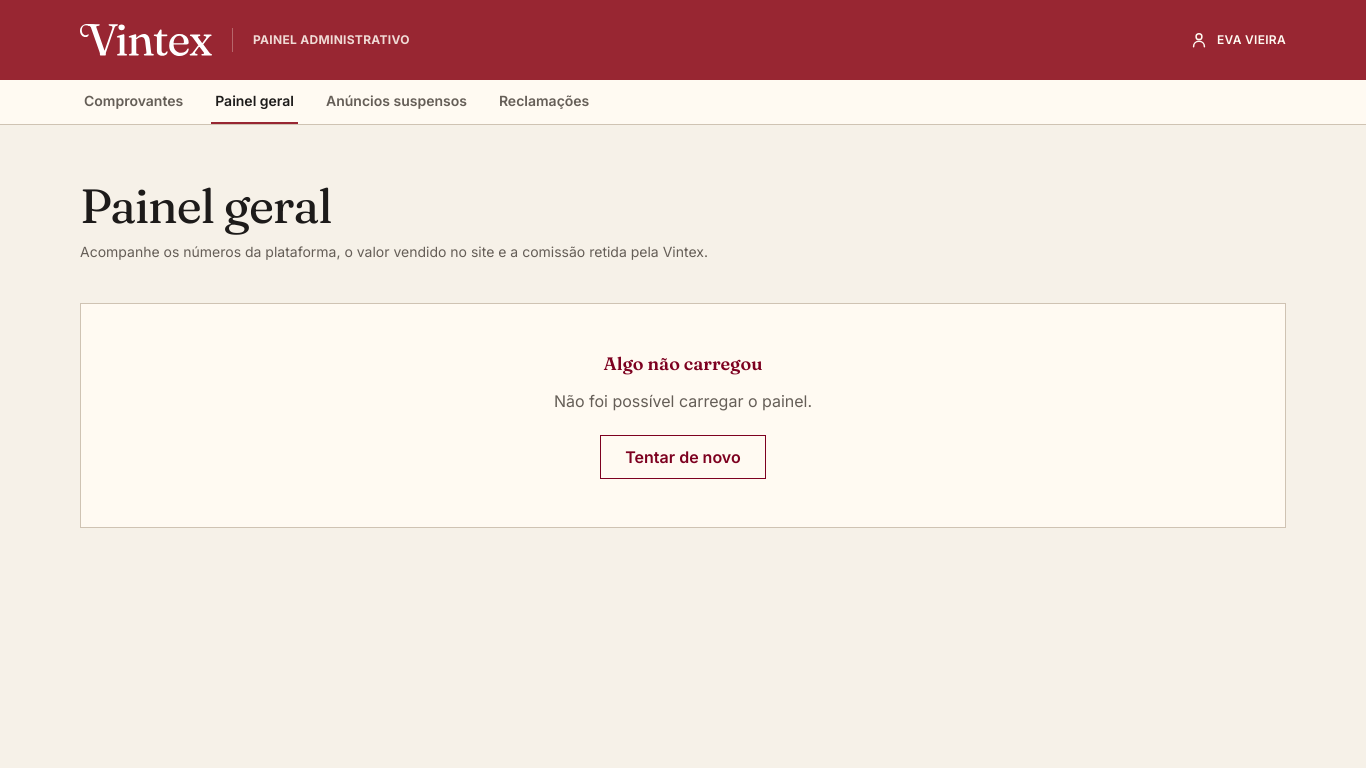
Test: <AdminDashboard /> › falha: erro com "Tentar de novo", que refaz a chamada; a navegação continua
The width and height of the screenshot is (1366, 768).
Later steps or results of the test are not shown.
Expected: the message shows "Não foi possível carregar o painel.", [554,391,812,411]
Expected: the navigation bar named "Área administrativa" is shown, [0,80,1365,125]
What coordinates should you click on to do the following:
click the button "Tentar de novo"
I would click on:
 (683, 457)
Its box is [600,435,766,479].
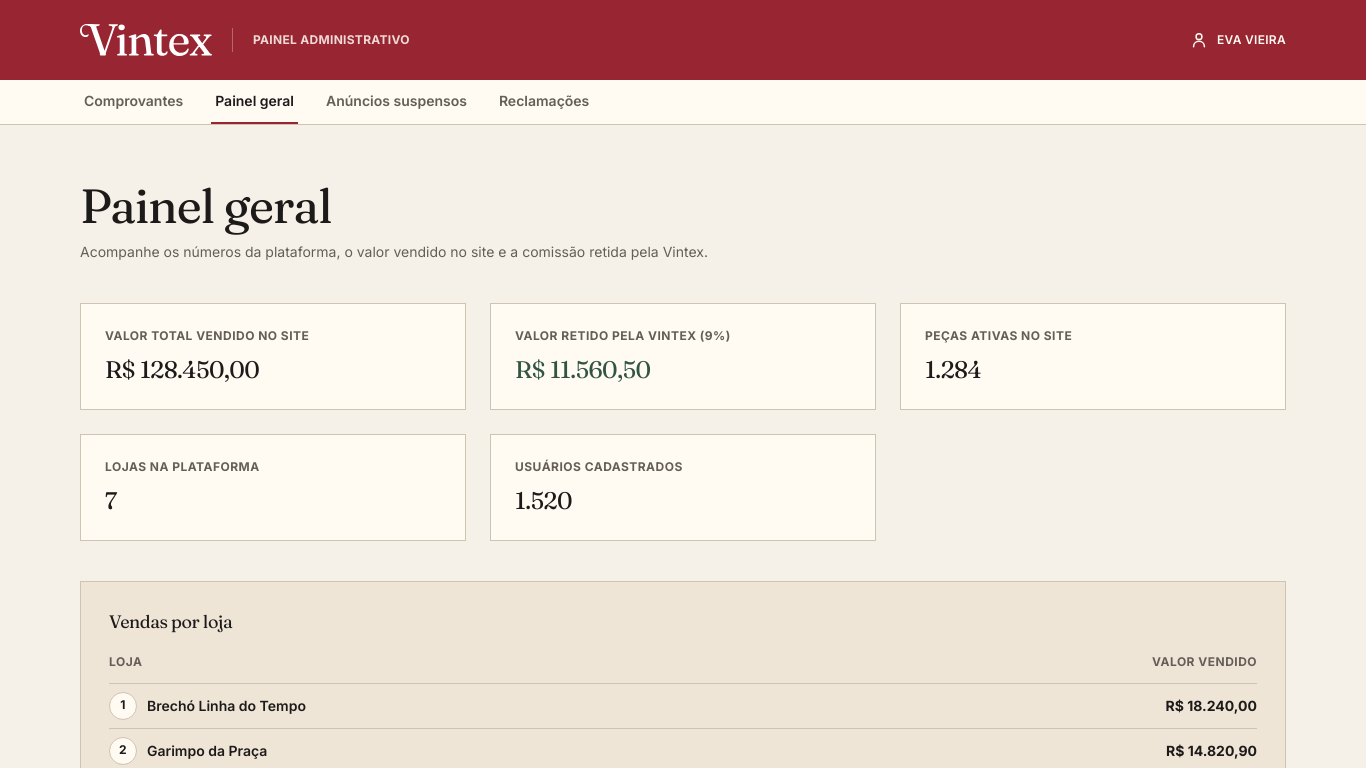
Expected: the text "7" is shown, [105,486,116,515]
Expected: the message "Algo não carregou Não foi possível carregar o painel. Tentar de novo" is gone
